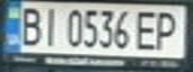0: (63, 6, 84, 48)
3: (97, 7, 118, 50)
5: (81, 6, 100, 49)
6: (112, 7, 136, 51)
B: (15, 3, 45, 46)
E: (133, 8, 163, 52)
I: (39, 4, 63, 47)
P: (151, 8, 187, 52)
